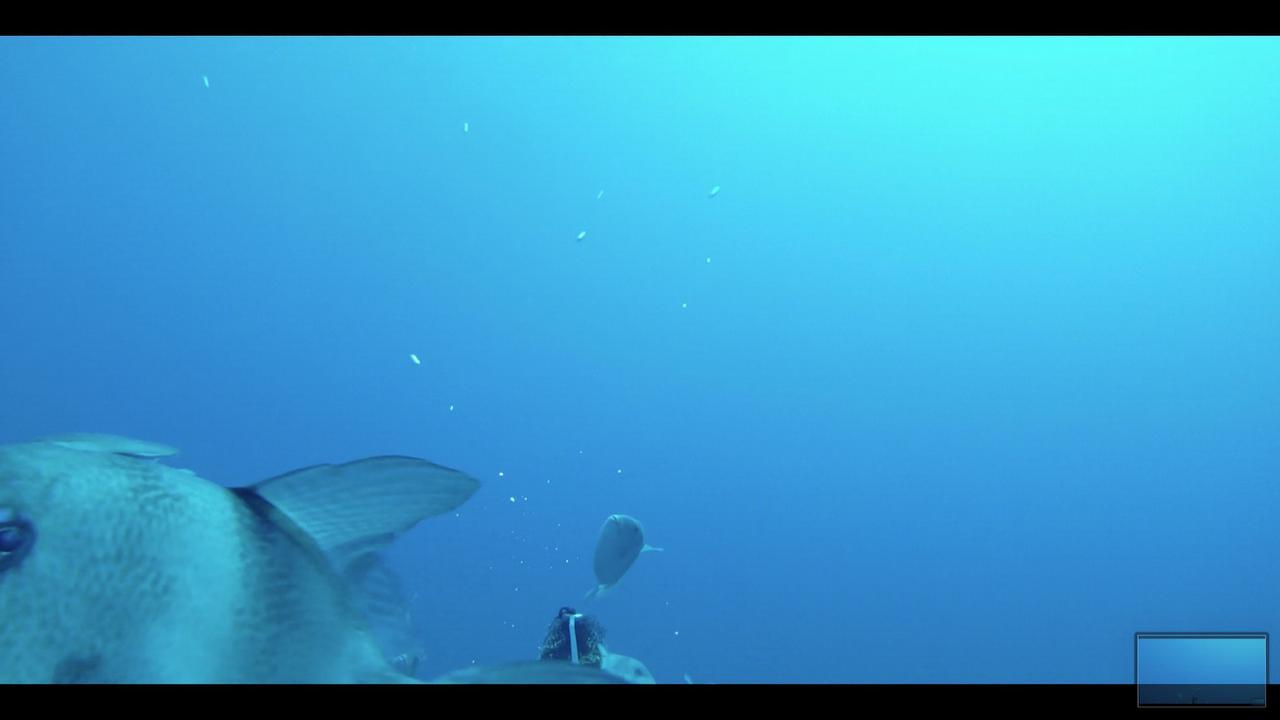balistes: (586, 507, 660, 602)
